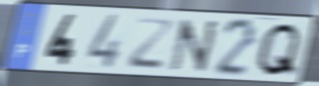2: (212, 16, 262, 79)
4: (85, 13, 123, 71), (42, 12, 77, 67)
N: (168, 18, 222, 75)
Q: (254, 21, 304, 79)
Z: (124, 16, 176, 72)
